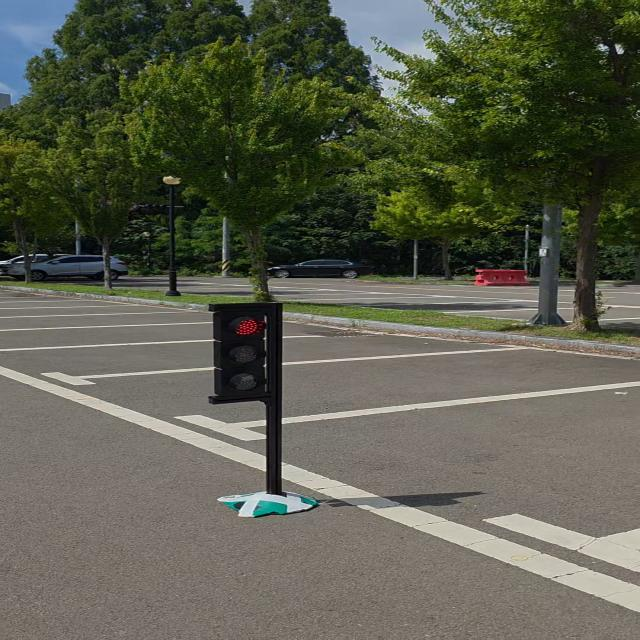red: (208, 300, 272, 399)
